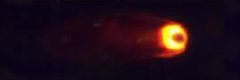keyhole: (171, 31, 186, 45)
